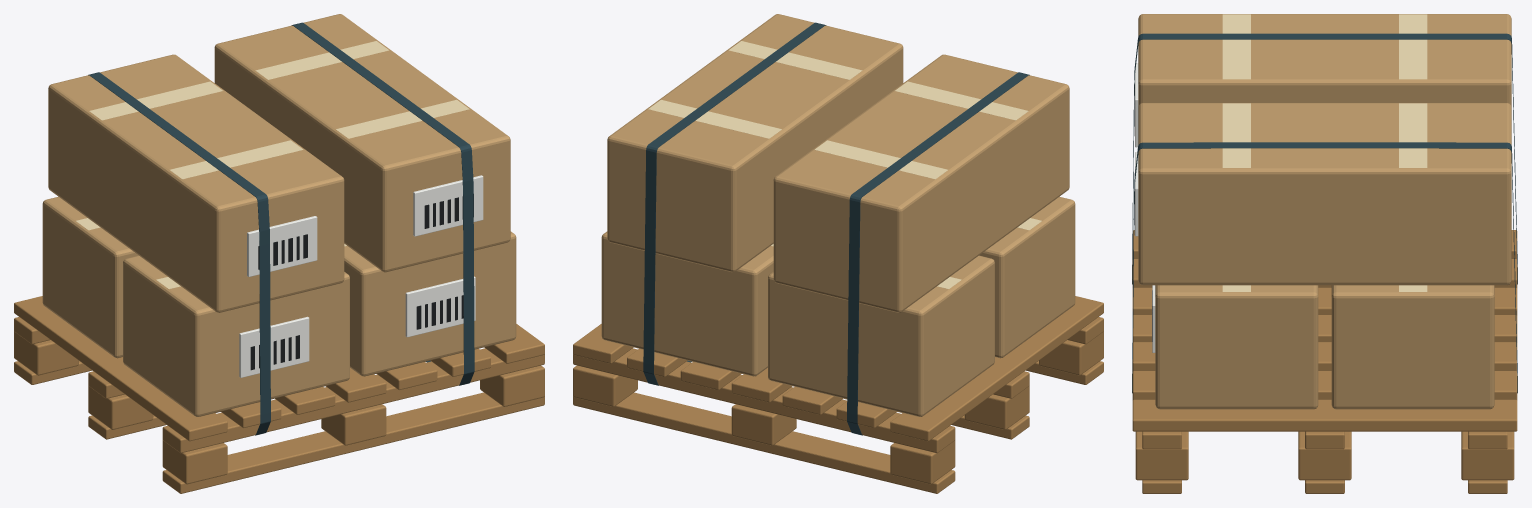
The model's file is palletized_case_load.glb.
3 views of the same model, side by side, from view 1: azimuth 30°, elevation 25°; view 2: azimuth 150°, elevation 25°; view 3: azimuth 270°, elevation 25° (orthographic). The views are drawn at different scales.
Visible parts, largest first — view 1: CASE_1_0_0, CASE_1_0_1, CASE_0_0_0, CASE_1_1_0, CASE_0_0_1, CASE_1_1_1, CASE_0_1_0, PALLET_BOTTOM_0, PALLET_TOP_DECK_0, PALLET_STRINGER_0, LOAD_STRAP_LOOP_1, LOAD_STRAP_LOOP_0 (+21 smaller); view 2: CASE_1_1_0, CASE_1_1_1, CASE_0_1_0, CASE_1_0_0, CASE_0_1_1, CASE_1_0_1, CASE_0_0_0, PALLET_BOTTOM_2, PALLET_TOP_DECK_0, PALLET_STRINGER_2, LOAD_STRAP_LOOP_1, LOAD_STRAP_LOOP_0 (+17 smaller); view 3: CASE_1_0_1, CASE_1_1_1, CASE_0_0_1, CASE_0_1_1, CASE_1_0_0, CASE_1_1_0, PALLET_TOP_DECK_6, LOAD_STRAP_LOOP_1, LOAD_STRAP_LOOP_0, PALLET_BLOCK_0_0.53, PALLET_BLOCK_2_0.53, PALLET_BLOCK_1_0.53 (+15 smaller).
Part boxes in pixels (x1,y1,x2,y2): CASE_1_0_0: (129, 113, 344, 312); CASE_1_0_1: (296, 73, 510, 272); CASE_0_0_0: (123, 255, 349, 416); CASE_1_1_0: (48, 54, 260, 252); CASE_0_0_1: (344, 231, 516, 376); CASE_1_1_1: (214, 14, 425, 145); CASE_0_1_0: (42, 196, 138, 358); PALLET_BOTTOM_0: (162, 392, 544, 493); PALLET_TOP_DECK_0: (14, 296, 227, 441); PALLET_STRINGER_0: (162, 348, 544, 453); LOAD_STRAP_LOOP_1: (291, 22, 474, 385); LOAD_STRAP_LOOP_0: (88, 72, 270, 435); CASE_1_1_0: (773, 115, 988, 312); CASE_1_1_1: (607, 73, 820, 272); CASE_0_1_0: (768, 255, 994, 416); CASE_1_0_0: (857, 54, 1069, 248); CASE_0_1_1: (601, 231, 773, 376); CASE_1_0_1: (692, 14, 903, 145); CASE_0_0_0: (979, 196, 1075, 358); PALLET_BOTTOM_2: (573, 392, 955, 493); PALLET_TOP_DECK_0: (890, 296, 1103, 441); PALLET_STRINGER_2: (573, 348, 955, 453); LOAD_STRAP_LOOP_1: (643, 22, 826, 385); LOAD_STRAP_LOOP_0: (847, 72, 1029, 435); CASE_1_0_1: (1138, 103, 1330, 285); CASE_1_1_1: (1319, 103, 1511, 285); CASE_0_0_1: (1155, 285, 1318, 409); CASE_0_1_1: (1331, 285, 1494, 409); CASE_1_0_0: (1138, 14, 1330, 106); CASE_1_1_0: (1319, 14, 1511, 106); PALLET_TOP_DECK_6: (1132, 399, 1517, 431); LOAD_STRAP_LOOP_1: (1132, 142, 1517, 393); LOAD_STRAP_LOOP_0: (1132, 33, 1517, 284); PALLET_BLOCK_0_0.53: (1135, 431, 1188, 480); PALLET_BLOCK_2_0.53: (1461, 431, 1514, 480); PALLET_BLOCK_1_0.53: (1298, 431, 1351, 480).
Bounding box in the file's own units: 1.22 × 0.8916 × 1.02.
